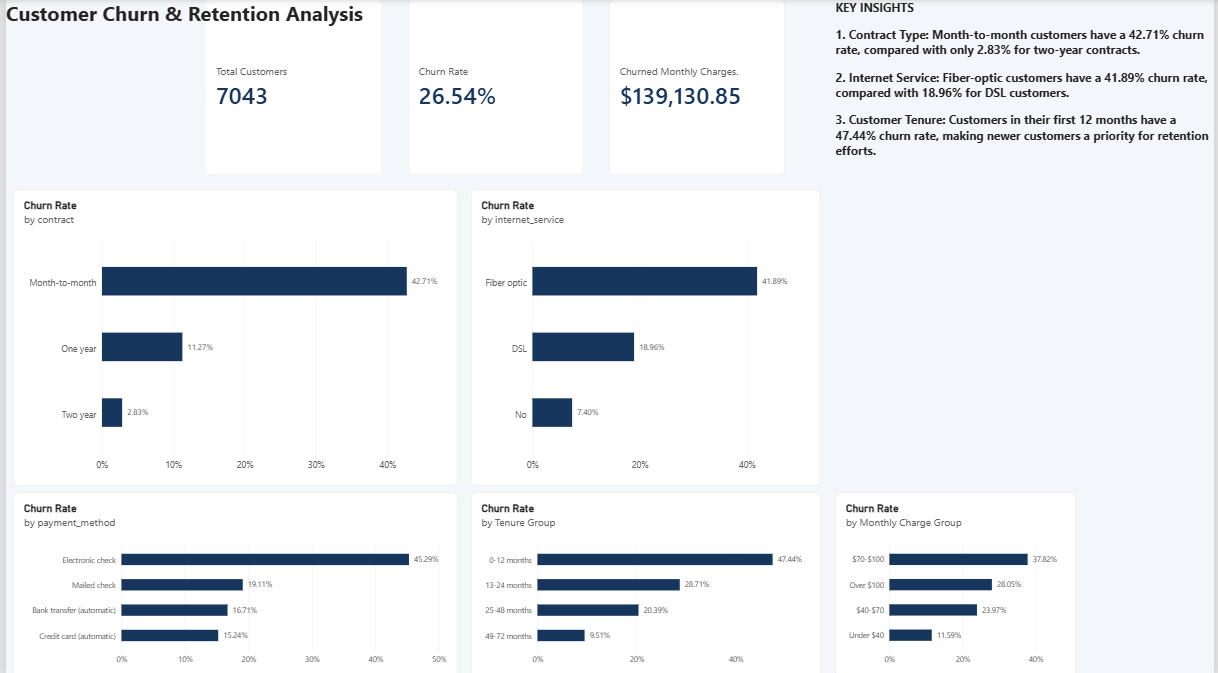

This screenshot's page, from the dashboard's own definition file:
{"tool":"powerbi","page":{"name":"Customer Churn Overview","canvas":[1920,1080],"ordinal":0},"visuals":[{"type":"cardVisual","fields":{"Data":["telco_churn_clean.Total Customers"]},"box":[317.1,0,280,280],"z":0},{"type":"cardVisual","fields":{"Data":["telco_churn_clean.Churn Rate"]},"box":[640,0,280,280],"z":1000},{"type":"cardVisual","fields":{"Data":["telco_churn_clean.Monthly Revenue at Risk"]},"box":[960,0,280,280],"z":2000},{"type":"clusteredBarChart","fields":{"Category":["telco_churn_clean.contract"],"Y":["telco_churn_clean.Churn Rate"]},"box":[11.3,303.3,705.8,470.6],"z":3000},{"type":"clusteredBarChart","fields":{"Category":["telco_churn_clean.internet_service"],"Y":["telco_churn_clean.Churn Rate"]},"box":[739.8,303.3,555.6,470.6],"z":4000},{"type":"clusteredBarChart","fields":{"Category":["telco_churn_clean.payment_method"],"Y":["telco_churn_clean.Churn Rate"]},"box":[11,784,706,296],"z":5000},{"type":"clusteredBarChart","fields":{"Category":["telco_churn_clean.Tenure Group"],"Y":["telco_churn_clean.Churn Rate"]},"box":[740,784,556,296],"z":6000},{"type":"clusteredBarChart","fields":{"Category":["telco_churn_clean.Monthly Charge Group"],"Y":["telco_churn_clean.Churn Rate"]},"box":[1320.5,784.1,381.8,295.5],"z":7000},{"type":"textbox","box":[0,0,717.5,80],"z":8000},{"type":"textbox","box":[1320,0,600,772.5],"z":9000}]}

Visuals, with their boxes in screenshot pixels (x1, y1, x2, y2), scaled from the page's 1920x1080 canvas onto the 1218x673 screenshot:
cardVisual - telco_churn_clean.Total Customers: <region>201, 0, 379, 174</region>
cardVisual - telco_churn_clean.Churn Rate: <region>406, 0, 584, 174</region>
cardVisual - telco_churn_clean.Monthly Revenue at Risk: <region>609, 0, 787, 174</region>
clusteredBarChart - telco_churn_clean.contract x telco_churn_clean.Churn Rate: <region>7, 189, 455, 482</region>
clusteredBarChart - telco_churn_clean.internet_service x telco_churn_clean.Churn Rate: <region>469, 189, 822, 482</region>
clusteredBarChart - telco_churn_clean.payment_method x telco_churn_clean.Churn Rate: <region>7, 489, 455, 672</region>
clusteredBarChart - telco_churn_clean.Tenure Group x telco_churn_clean.Churn Rate: <region>469, 489, 822, 672</region>
clusteredBarChart - telco_churn_clean.Monthly Charge Group x telco_churn_clean.Churn Rate: <region>838, 489, 1080, 672</region>
textbox: <region>0, 0, 455, 50</region>
textbox: <region>837, 0, 1217, 481</region>
